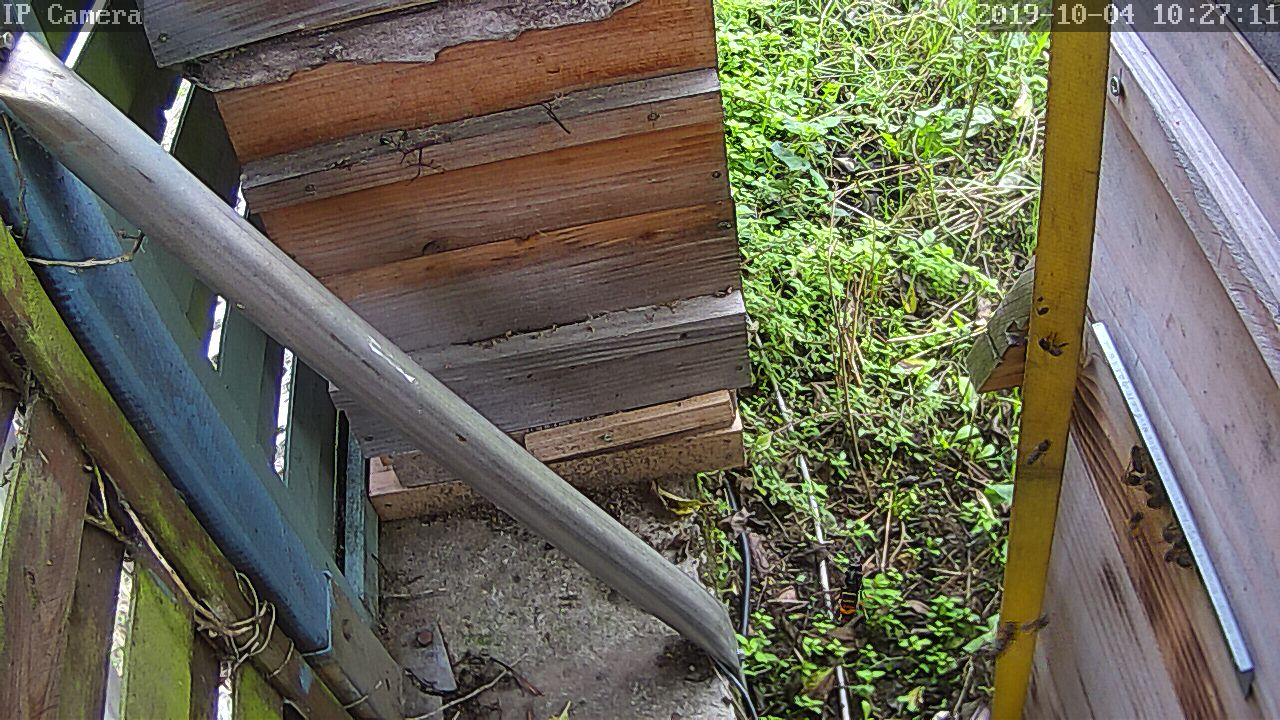bee: (1156, 527, 1197, 571), (1128, 492, 1168, 534), (1120, 444, 1154, 489), (989, 619, 1018, 658), (1024, 437, 1055, 470), (1020, 611, 1053, 638), (1035, 333, 1068, 359)
hornet: (837, 554, 869, 618)
